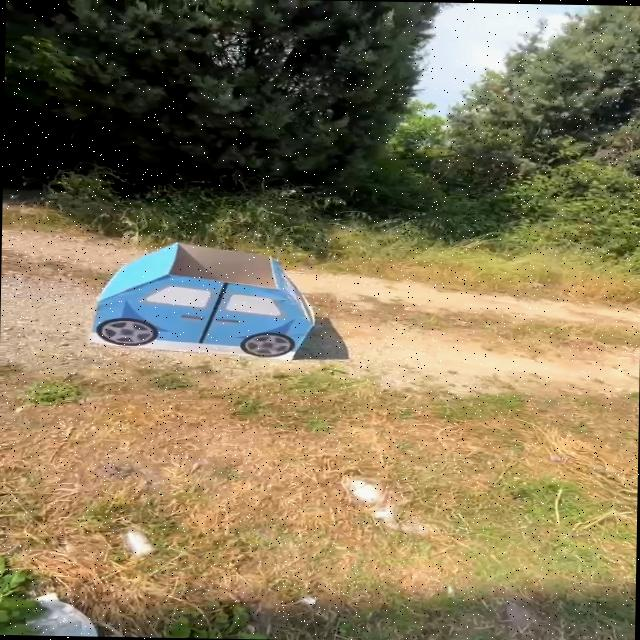blue_car: (69, 236, 333, 366)
